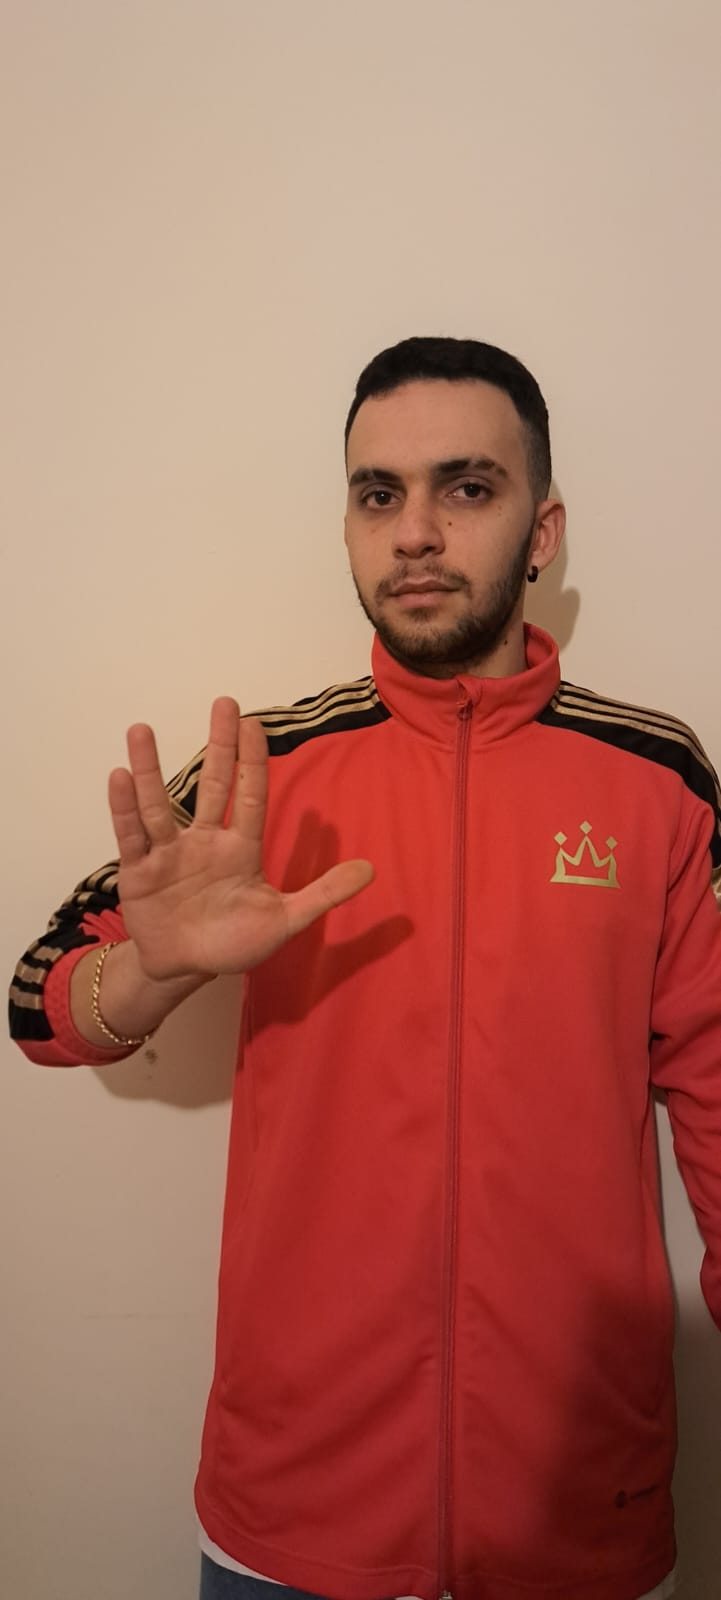alien: (94, 693, 381, 987)
